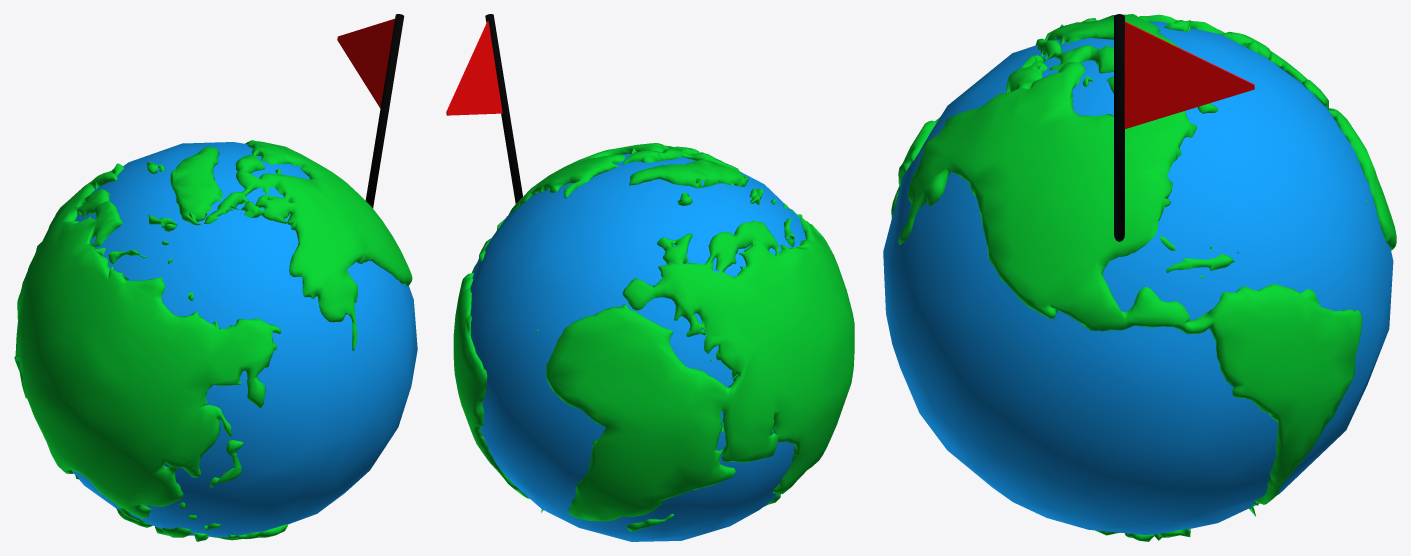
The model's file is earth.glb.
3 renders of one model, left to right at view 1: azimuth 30°, elevation 25°; view 2: azimuth 150°, elevation 25°; view 3: azimuth 270°, elevation 25°, orthographic. The views are drawn at different scales.
Visible parts, largest first — view 1: low_poly_earth.001, low_poly_earth, Plane, Cylinder; view 2: low_poly_earth.001, low_poly_earth, Plane, Cylinder; view 3: low_poly_earth, low_poly_earth.001, Plane, Cylinder.
Boxes of the visible parts, bbox=[...] form: low_poly_earth.001: bbox=[14, 140, 412, 541]; low_poly_earth: bbox=[71, 142, 417, 537]; Plane: bbox=[337, 18, 394, 108]; Cylinder: bbox=[365, 14, 404, 207]; low_poly_earth.001: bbox=[453, 143, 854, 531]; low_poly_earth: bbox=[470, 153, 805, 541]; Plane: bbox=[446, 21, 502, 115]; Cylinder: bbox=[485, 14, 522, 203]; low_poly_earth: bbox=[883, 21, 1393, 534]; low_poly_earth.001: bbox=[891, 14, 1396, 541]; Plane: bbox=[1124, 21, 1254, 128]; Cylinder: bbox=[1114, 14, 1124, 241].
Bounding box in the file's own units: 3.38 × 4.31 × 3.3.
